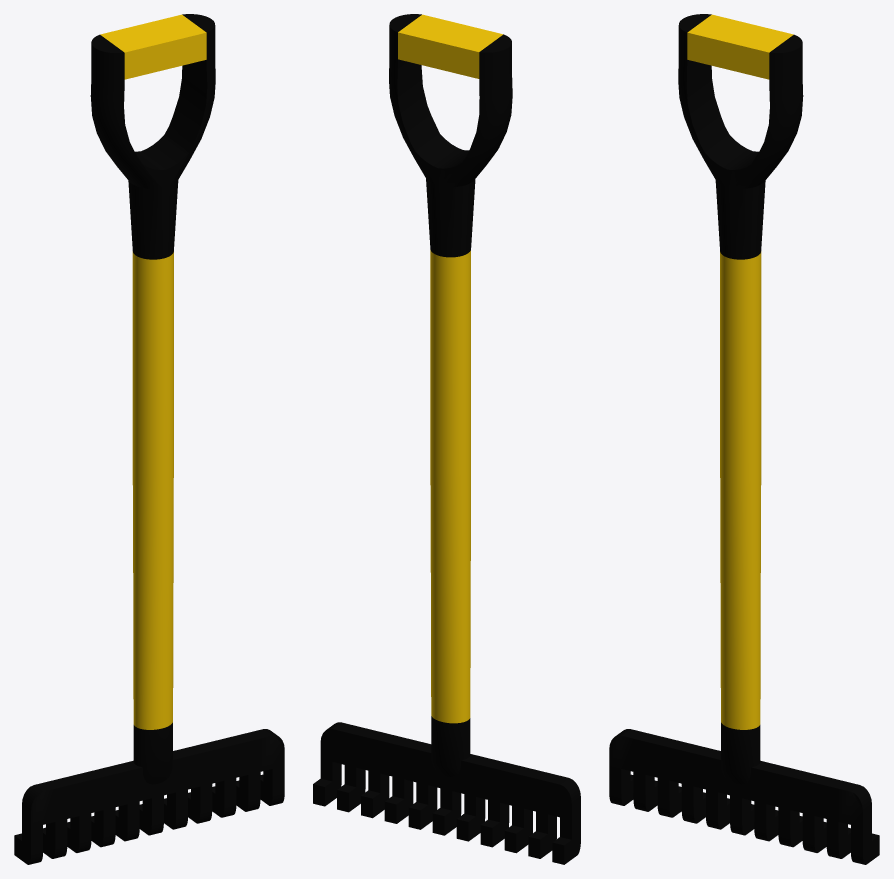
File: rake.fbx
3 renders of one model, left to right at view 1: azimuth 30°, elevation 25°; view 2: azimuth 150°, elevation 25°; view 3: azimuth 330°, elevation 25°, orthographic.
Visible parts, largest first — view 1: rake; view 2: rake; view 3: rake.
Boxes of the visible parts, left/top/right/bottom form: rake: left=14, top=14, right=284, bottom=864; rake: left=313, top=14, right=580, bottom=864; rake: left=609, top=14, right=879, bottom=864.
Size of the model in its own units: 32 by 96.37 by 5.5.
